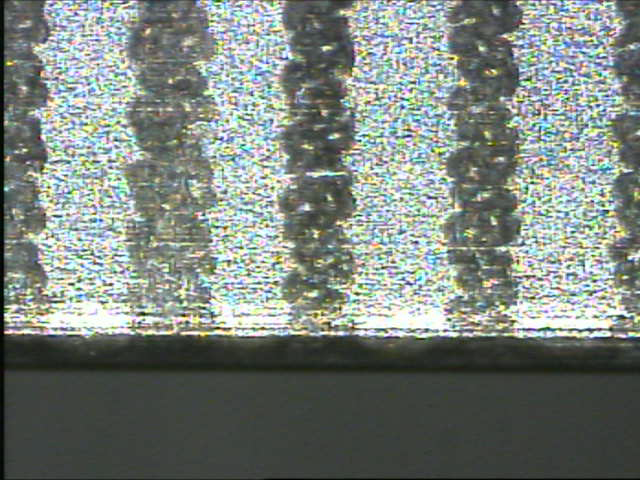line: (123, 1, 221, 334), (439, 1, 527, 333), (276, 1, 358, 337)
